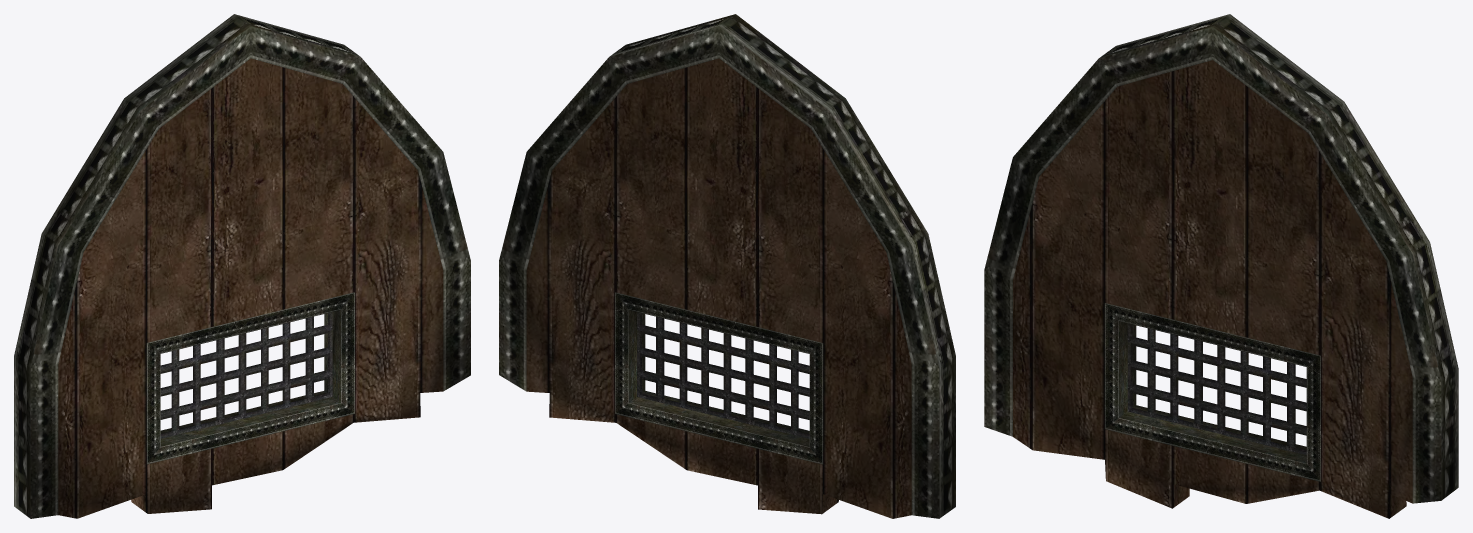
File: DOOR_BROKEN_DRAGONISLAND_03.glb
3 renders of one model, left to right at view 1: azimuth 30°, elevation 25°; view 2: azimuth 150°, elevation 25°; view 3: azimuth 330°, elevation 25°, orthographic. The views are drawn at different scales.
Visible parts, largest first — view 1: Mesh; view 2: Mesh; view 3: Mesh.
Boxes of the visible parts, x1,y1,x2,y2 form: Mesh: (14, 14, 470, 518); Mesh: (499, 14, 955, 518); Mesh: (984, 14, 1458, 518).
Size of the model in its own units: 1.6 by 1.65 by 0.1049.
3 materials, 3 textured.
